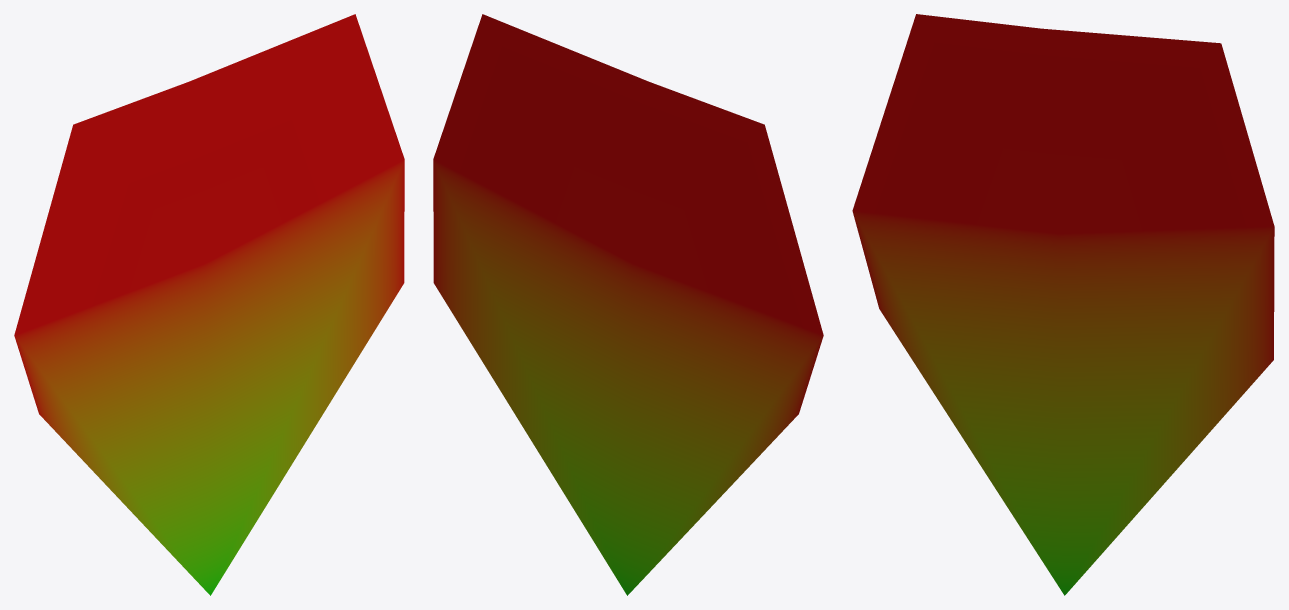
Rendered from Rose Hip_LOD5_Var11.fbx.
3 renders of one model, left to right at view 1: azimuth 30°, elevation 25°; view 2: azimuth 150°, elevation 25°; view 3: azimuth 330°, elevation 25°, orthographic. The views are drawn at different scales.
Visible parts, largest first — view 1: _dy1t_Var11_LOD5; view 2: _dy1t_Var11_LOD5; view 3: _dy1t_Var11_LOD5.
Boxes of the visible parts, x1,y1,x2,y2 form: _dy1t_Var11_LOD5: [14, 14, 404, 595]; _dy1t_Var11_LOD5: [433, 14, 823, 595]; _dy1t_Var11_LOD5: [852, 14, 1274, 595].
Bounding box in the file's own units: 59.56 × 79.68 × 1.76e-08.
